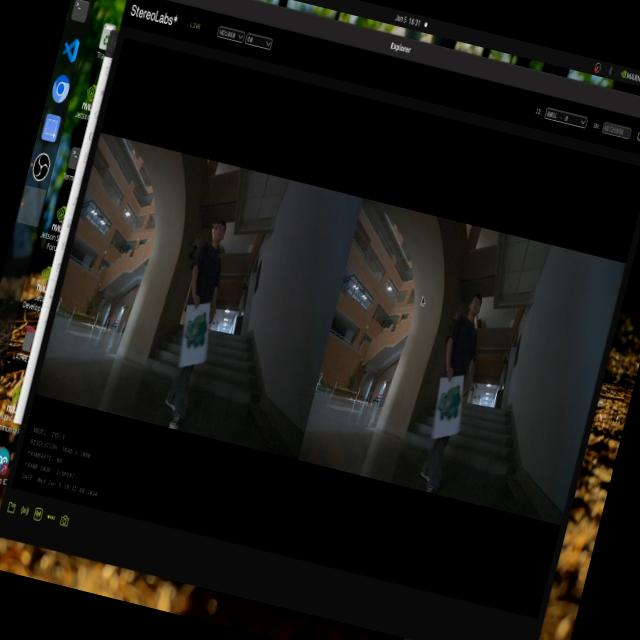green: (430, 378, 473, 440), (178, 306, 220, 356)
